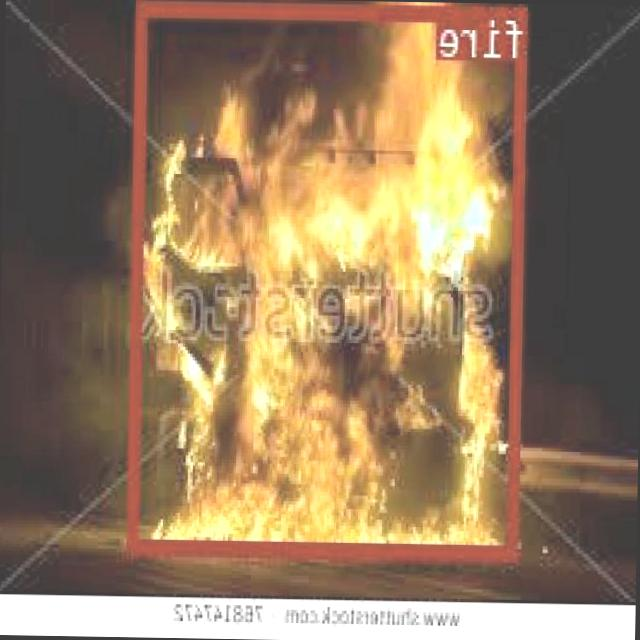fire: (129, 0, 528, 557)
